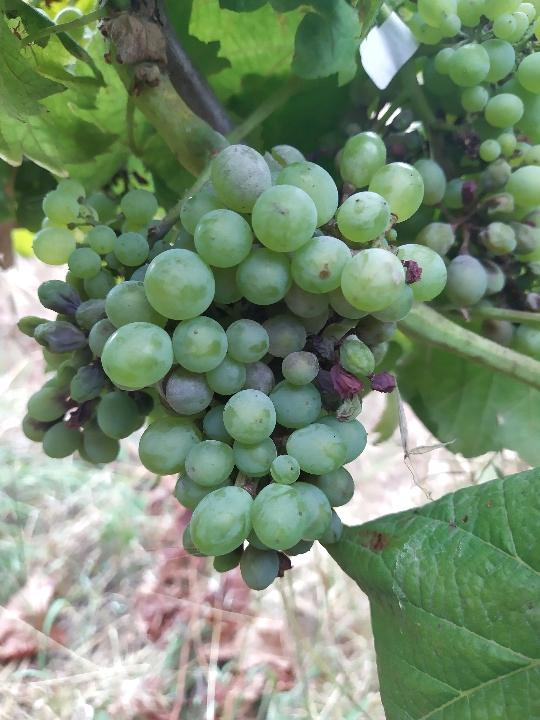grape: (21, 127, 452, 596)
